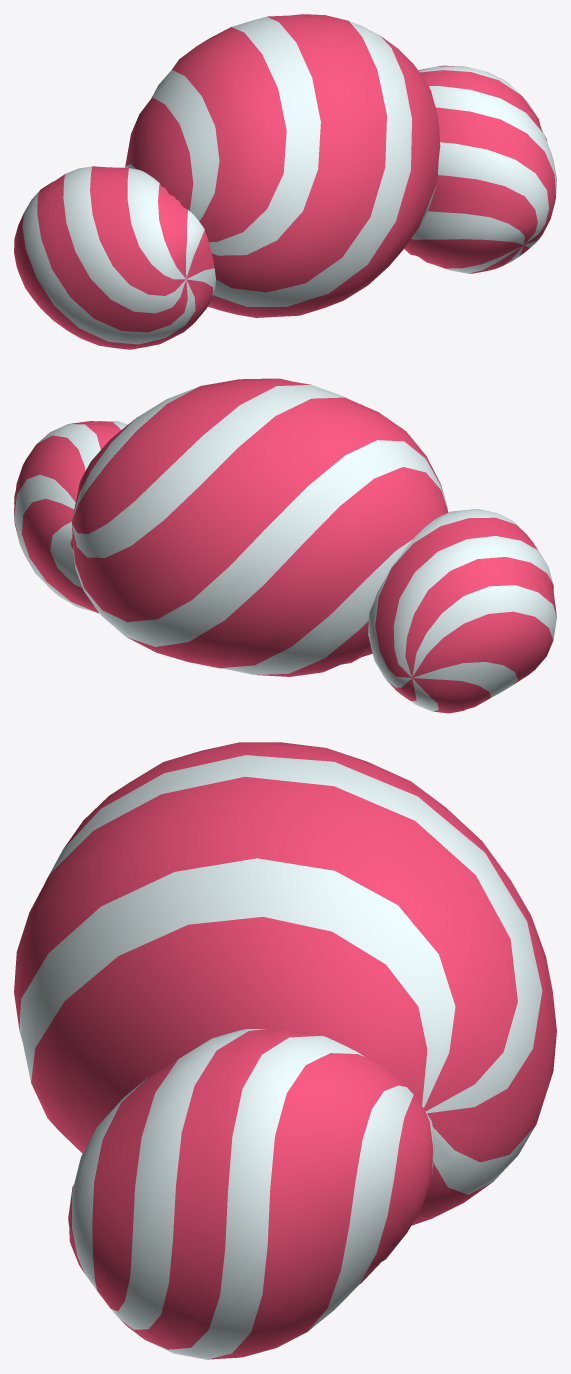
File: CandyPlant_A_03.fbx
3 renders of one model, top to bottom at view 1: azimuth 30°, elevation 25°; view 2: azimuth 150°, elevation 25°; view 3: azimuth 270°, elevation 25°, orthographic. The views are drawn at different scales.
Visible parts, largest first — view 1: CandyPlant_A_03_LOD0; view 2: CandyPlant_A_03_LOD0; view 3: CandyPlant_A_03_LOD0.
Part boxes in pixels (bbox=[...]): CandyPlant_A_03_LOD0: bbox=[14, 14, 556, 349]; CandyPlant_A_03_LOD0: bbox=[14, 378, 556, 713]; CandyPlant_A_03_LOD0: bbox=[14, 742, 556, 1359].
Size of what is drawn, in the model's own units: 869 by 423 by 477.
